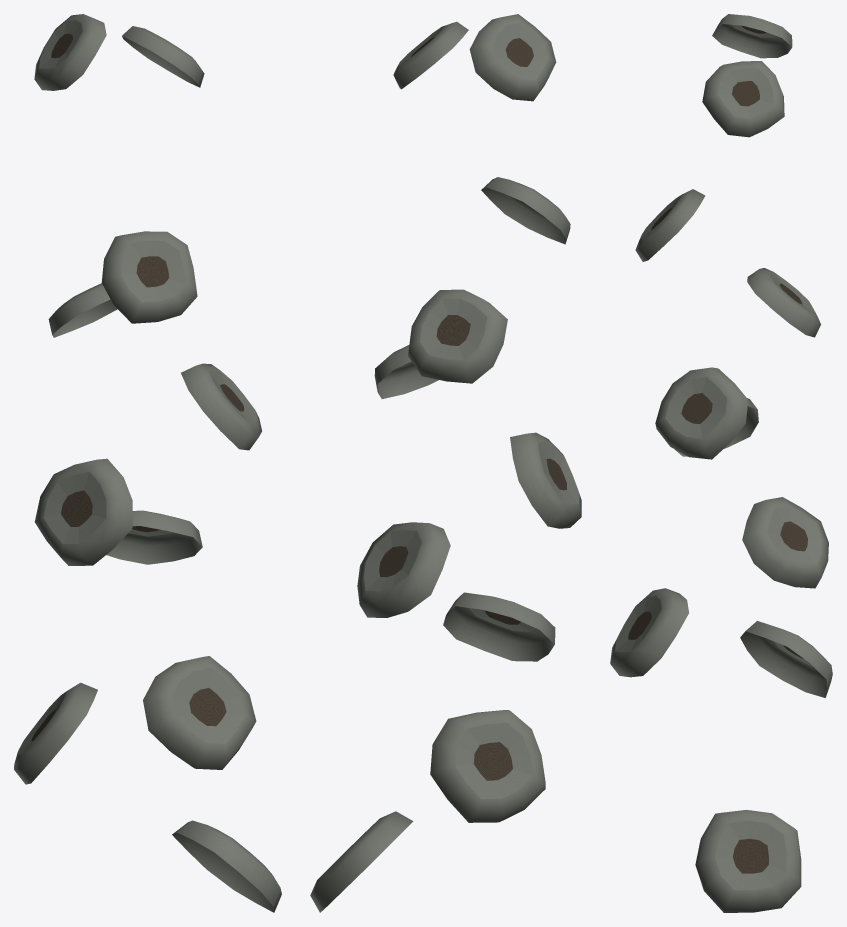
File: Beech_Mature_01_HighPruned_Healed_LOD1.fbx
The picture shows the model from 3 angles, left to right: view 1: azimuth 30°, elevation 25°; view 2: azimuth 150°, elevation 25°; view 3: azimuth 270°, elevation 25°; orthographic projection. The views are drawn at different scales.
Parts seen in each view (by area): view 1: Beech_Mature_01_HighPruned_Healed_LOD1_Scars; view 2: Beech_Mature_01_HighPruned_Healed_LOD1_Scars; view 3: Beech_Mature_01_HighPruned_Healed_LOD1_Scars.
Boxes of the visible parts, box(x1,y1,x2,y2) form: Beech_Mature_01_HighPruned_Healed_LOD1_Scars: box(14, 14, 281, 912); Beech_Mature_01_HighPruned_Healed_LOD1_Scars: box(310, 14, 581, 912); Beech_Mature_01_HighPruned_Healed_LOD1_Scars: box(610, 14, 832, 912).
Size of what is drawn, in the model's own units: 140 by 521 by 128.
Materials: 2 (2 with a texture image).
